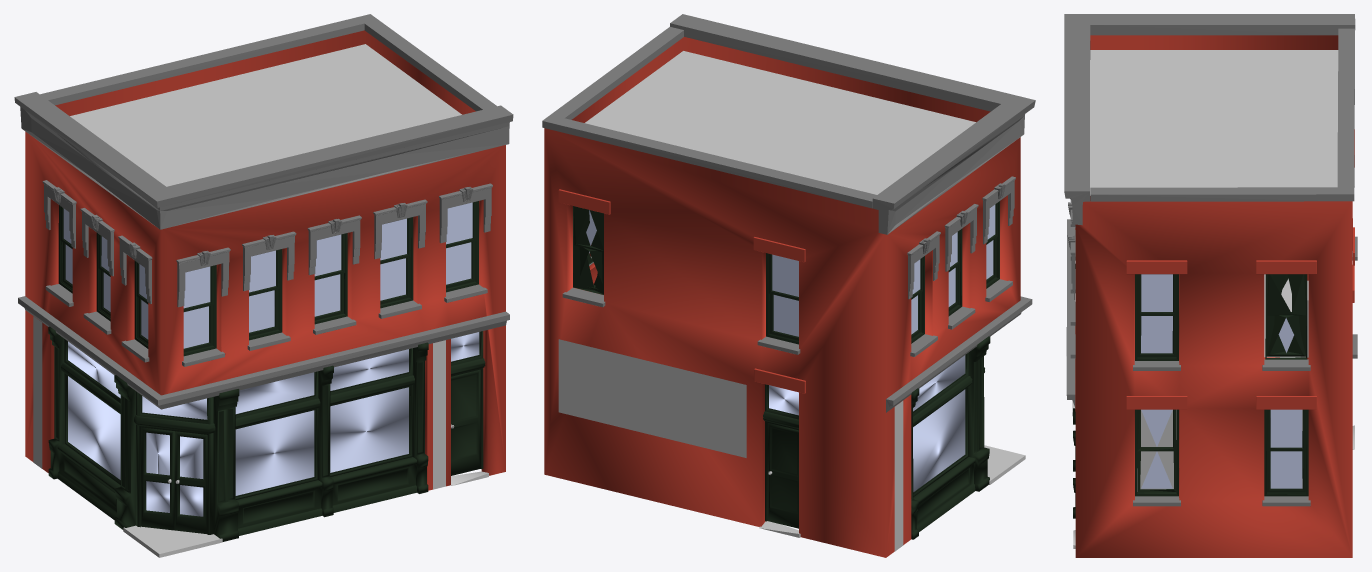
File: Building_urbaniac.obj
3 renders of one model, left to right at view 1: azimuth 30°, elevation 25°; view 2: azimuth 150°, elevation 25°; view 3: azimuth 270°, elevation 25°, orthographic. The views are drawn at different scales.
Visible parts, largest first — view 1: CityAssets_-_Building01_Main_Plane.002, CityAssets_-_Building01_FrontWindow_Plane.005, CityAssets_-_Building01_borders_Plane.001, CityAssets_-_Building01_Interior.001_Plane.010, CityAssets_-_Building01_windows.008_Plane.004, CityAssets_-_Building01_windows.005_Plane.006, CityAssets_-_Building01_windows.012_Plane.007, CityAssets_-_Building01_Interior.003_Plane.012, CityAssets_-_Building01_windowsBorder.004_Plane.020, CityAssets_-_Building01_windowsBorder.002_Plane.018, CityAssets_-_Building01_windowsBorder_Plane.016, CityAssets_-_Building01_windowsBorder.001_Plane.017 (+4 smaller); view 2: CityAssets_-_Building01_Main_Plane.002, CityAssets_-_Building01_Interior.001_Plane.010, CityAssets_-_Building01_borders_Plane.001, CityAssets_-_Building01_FrontWindow_Plane.005, CityAssets_-_Building01_windows.012_Plane.007, CityAssets_-_Building01_windows.009_Plane.008, CityAssets_-_Building01_windowsBorder.006_Plane.022, CityAssets_-_Building01_windowsBorder.005_Plane.021, CityAssets_-_Building01_windowsBorder.007_Plane.015, CityAssets_-_Building01_windowsBorder.012_Plane.027, CityAssets_-_Building01_Interior.003_Plane.012, CityAssets_-_Building01_windowsBorder.013_Plane.030 (+2 smaller); view 3: CityAssets_-_Building01_Main_Plane.002, CityAssets_-_Building01_Interior.001_Plane.010, CityAssets_-_Building01_borders_Plane.001, CityAssets_-_Building01_windows.007_Plane.014, CityAssets_-_Building01_windows.010_Plane.138, CityAssets_-_Building01_windows.008_Plane.004, CityAssets_-_Building01_windows.009_Plane.008, CityAssets_-_Building01_windowsBorder.009_Plane.024, CityAssets_-_Building01_windowsBorder.008_Plane.023, CityAssets_-_Building01_windowsBorder.011_Plane.026, CityAssets_-_Building01_windowsBorder.010_Plane.025, CityAssets_-_Building01_Interior.003_Plane.012 (+1 smaller).
Part boxes in pixels (<box>): CityAssets_-_Building01_Main_Plane.002: <box>25,30,505,490</box>; CityAssets_-_Building01_FrontWindow_Plane.005: <box>48,326,485,541</box>; CityAssets_-_Building01_borders_Plane.001: <box>14,14,513,409</box>; CityAssets_-_Building01_Interior.001_Plane.010: <box>70,44,461,186</box>; CityAssets_-_Building01_windows.008_Plane.004: <box>314,201,478,324</box>; CityAssets_-_Building01_windows.005_Plane.006: <box>134,249,282,356</box>; CityAssets_-_Building01_windows.012_Plane.007: <box>58,205,110,321</box>; CityAssets_-_Building01_Interior.003_Plane.012: <box>123,471,488,557</box>; CityAssets_-_Building01_windowsBorder.004_Plane.020: <box>439,183,492,302</box>; CityAssets_-_Building01_windowsBorder.002_Plane.018: <box>307,215,361,334</box>; CityAssets_-_Building01_windowsBorder_Plane.016: <box>176,247,230,366</box>; CityAssets_-_Building01_windowsBorder.001_Plane.017: <box>242,231,296,350</box>; CityAssets_-_Building01_Main_Plane.002: <box>544,37,1020,557</box>; CityAssets_-_Building01_Interior.001_Plane.010: <box>585,51,975,194</box>; CityAssets_-_Building01_borders_Plane.001: <box>542,14,1035,412</box>; CityAssets_-_Building01_FrontWindow_Plane.005: <box>763,336,990,539</box>; CityAssets_-_Building01_windows.012_Plane.007: <box>766,229,962,344</box>; CityAssets_-_Building01_windows.009_Plane.008: <box>573,206,603,294</box>; CityAssets_-_Building01_windowsBorder.006_Plane.022: <box>944,204,978,329</box>; CityAssets_-_Building01_windowsBorder.005_Plane.021: <box>982,176,1015,301</box>; CityAssets_-_Building01_windowsBorder.007_Plane.015: <box>907,231,940,356</box>; CityAssets_-_Building01_windowsBorder.012_Plane.027: <box>558,189,610,307</box>; CityAssets_-_Building01_Interior.003_Plane.012: <box>759,445,1025,537</box>; CityAssets_-_Building01_windowsBorder.013_Plane.030: <box>753,237,805,354</box>; CityAssets_-_Building01_Main_Plane.002: <box>1075,35,1352,557</box>; CityAssets_-_Building01_Interior.001_Plane.010: <box>1090,50,1338,195</box>; CityAssets_-_Building01_borders_Plane.001: <box>1064,14,1355,407</box>; CityAssets_-_Building01_windows.007_Plane.014: <box>1264,409,1308,496</box>; CityAssets_-_Building01_windows.010_Plane.138: <box>1135,409,1178,496</box>; CityAssets_-_Building01_windows.008_Plane.004: <box>1135,274,1178,360</box>; CityAssets_-_Building01_windows.009_Plane.008: <box>1265,274,1307,359</box>; CityAssets_-_Building01_windowsBorder.009_Plane.024: <box>1256,260,1316,370</box>; CityAssets_-_Building01_windowsBorder.008_Plane.023: <box>1126,260,1187,370</box>; CityAssets_-_Building01_windowsBorder.011_Plane.026: <box>1126,396,1187,506</box>; CityAssets_-_Building01_windowsBorder.010_Plane.025: <box>1256,396,1316,506</box>; CityAssets_-_Building01_Interior.003_Plane.012: <box>1072,274,1354,548</box>.
Size of the model in its own units: 842 by 809 by 586.
